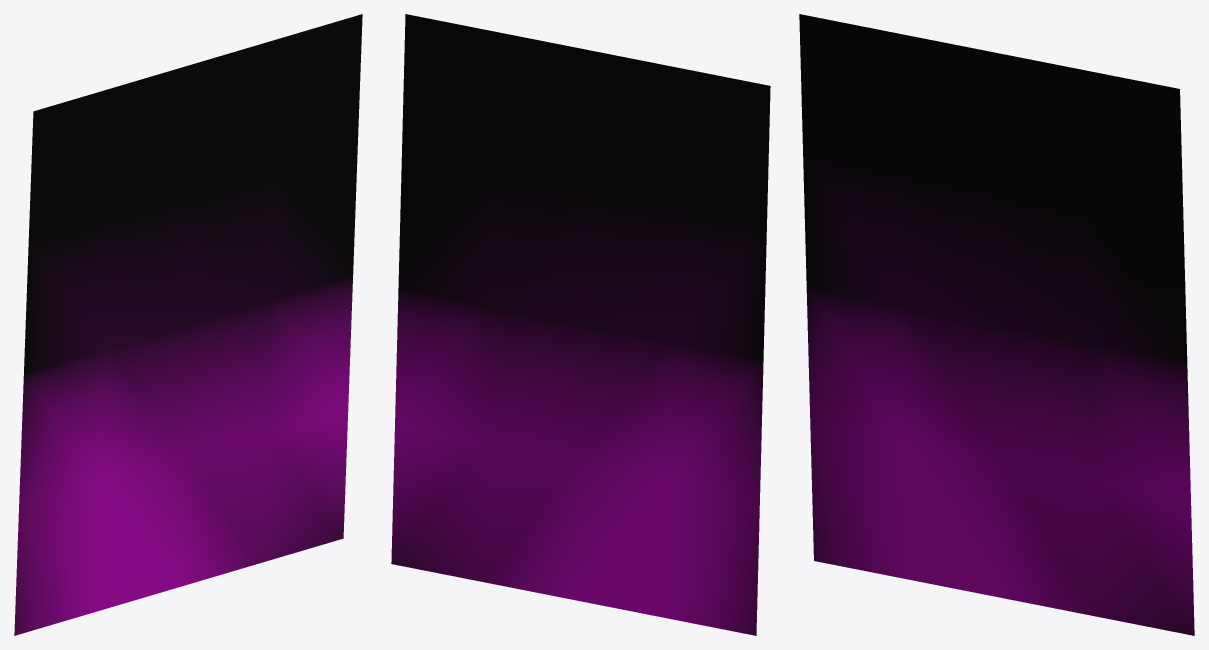
The picture shows the model from 3 angles, left to right: view 1: azimuth 30°, elevation 25°; view 2: azimuth 150°, elevation 25°; view 3: azimuth 330°, elevation 25°; orthographic projection. The views are drawn at different scales.
Visible parts, largest first — view 1: Plane001; view 2: Plane001; view 3: Plane001.
Boxes of the visible parts, left/top/right/bottom form: Plane001: left=14, top=14, right=362, bottom=635; Plane001: left=391, top=14, right=770, bottom=635; Plane001: left=799, top=14, right=1194, bottom=635.
Size of the model in its own units: 91.6 by 134 by 15.47.
